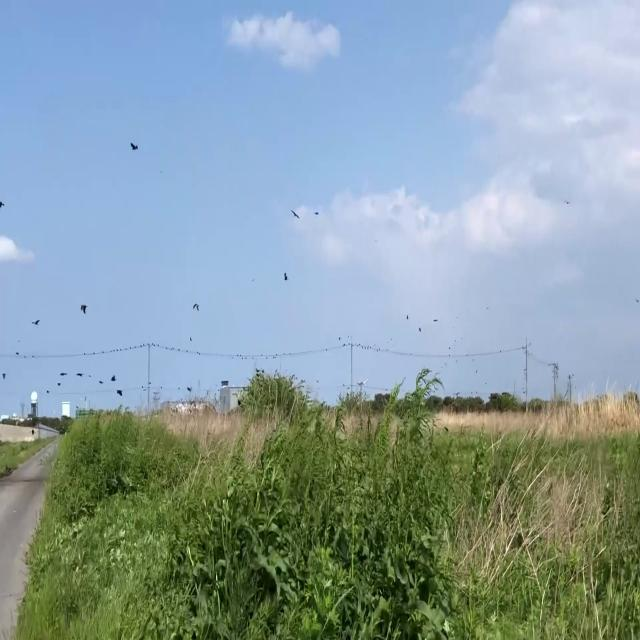bird: (290, 204, 300, 224), (130, 137, 138, 156), (192, 298, 200, 316), (32, 312, 40, 329), (80, 298, 87, 316), (116, 382, 122, 398), (76, 367, 84, 379), (112, 372, 118, 387), (60, 369, 66, 383), (0, 194, 4, 214), (564, 191, 568, 209), (284, 268, 288, 284)
